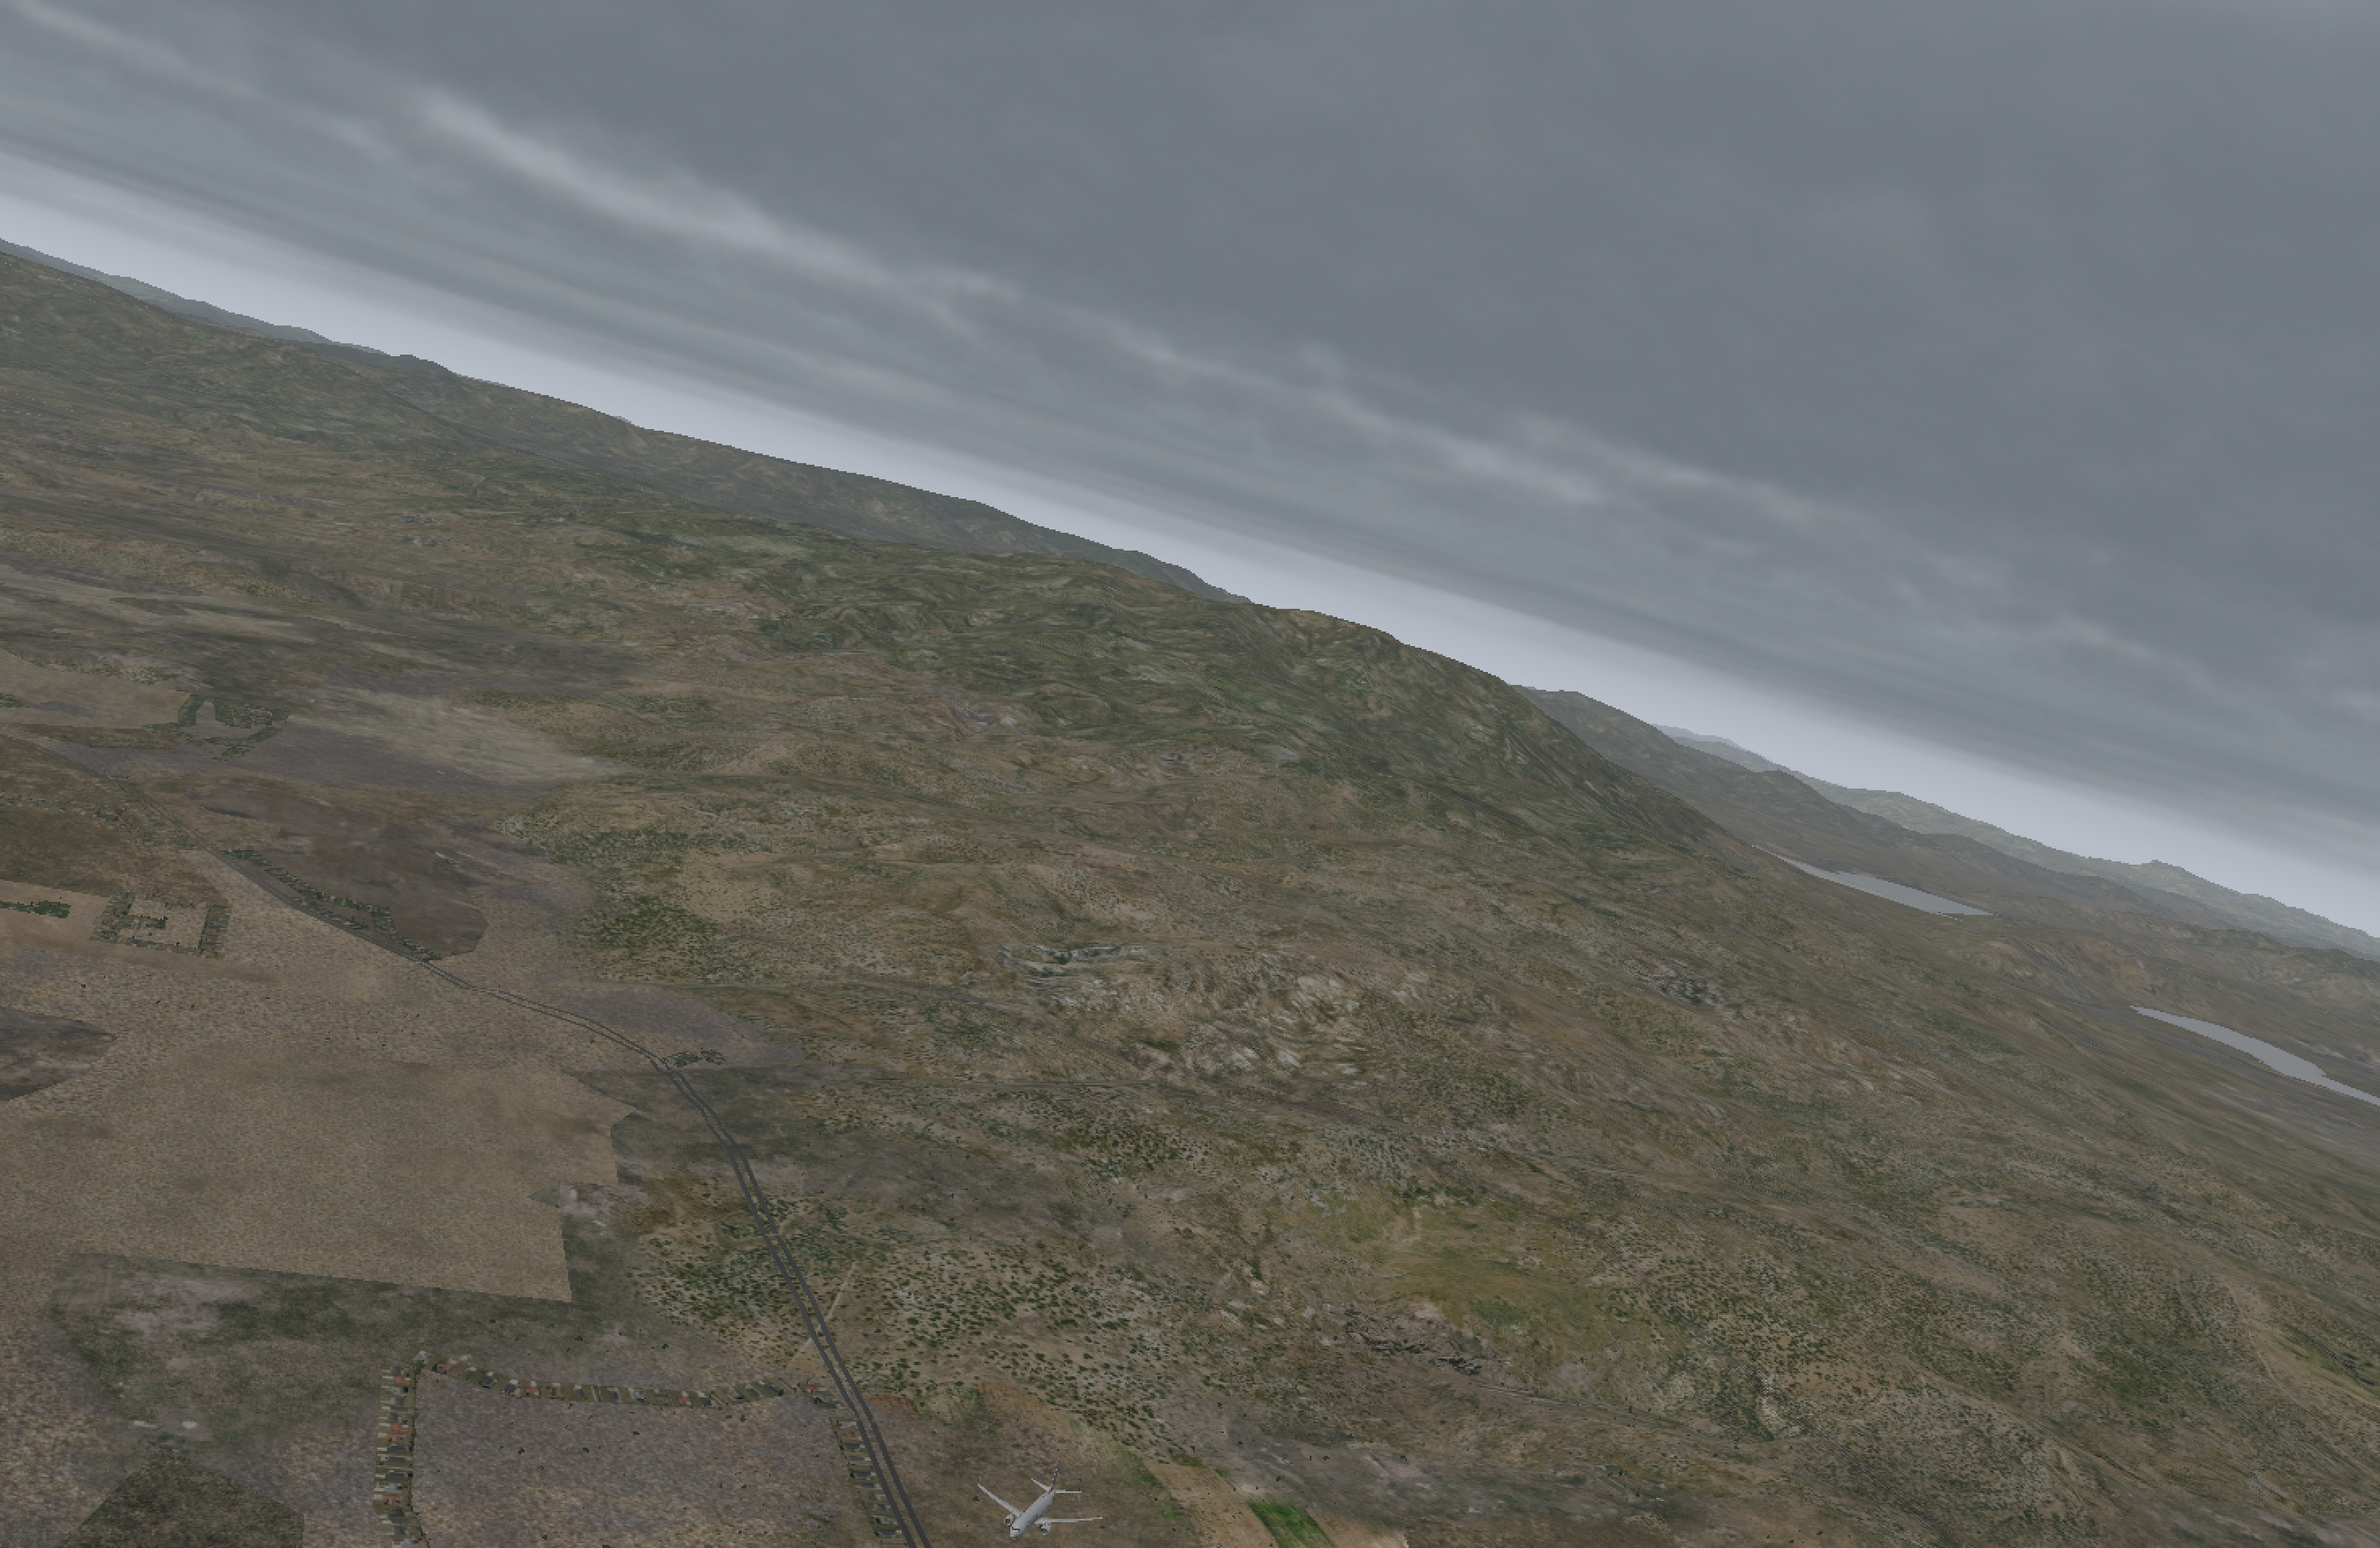aircraft: (961, 1489, 1105, 1543)
